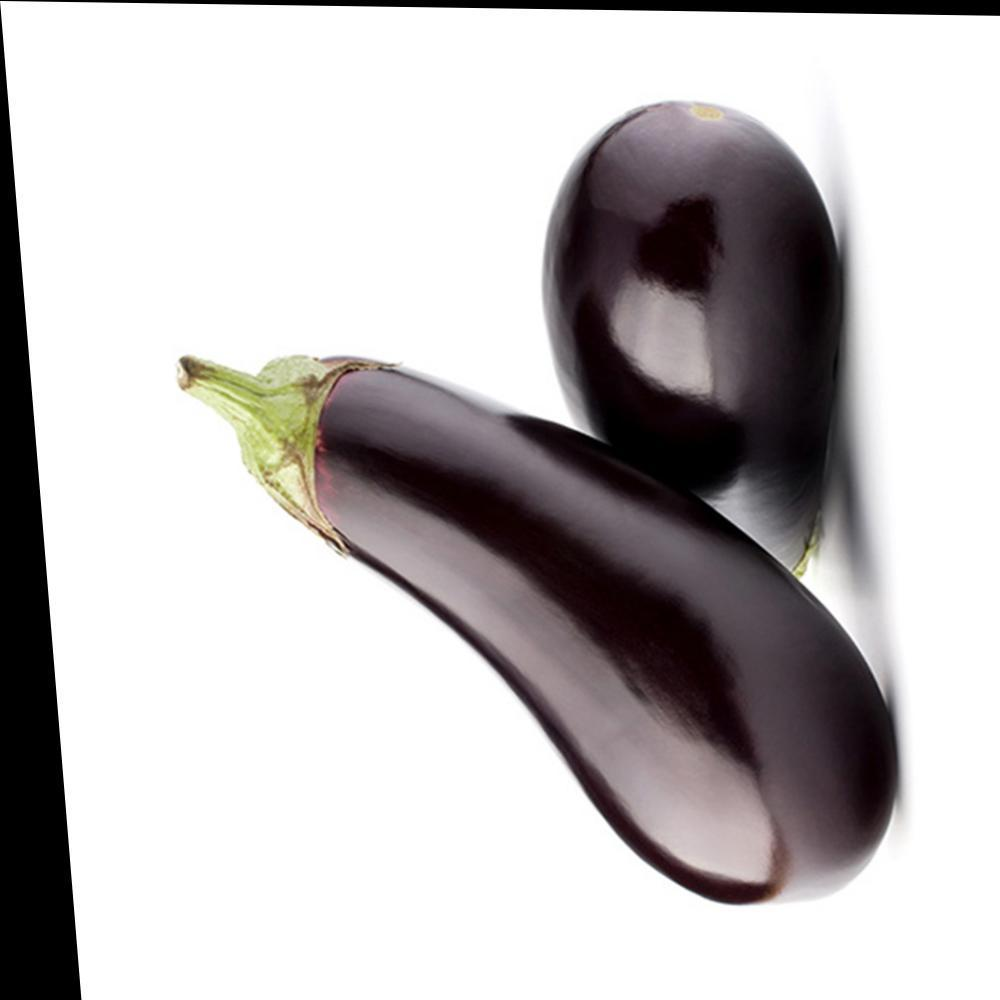eggplant: (148, 91, 990, 956)
